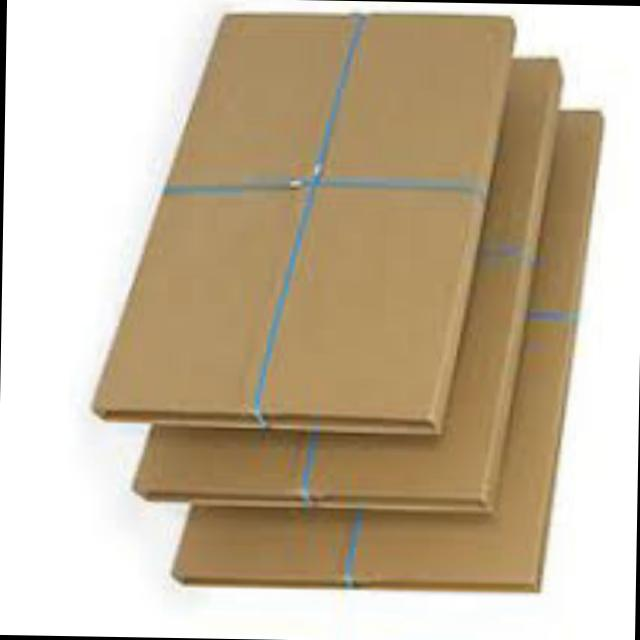cardboard paper: (101, 19, 604, 595)
